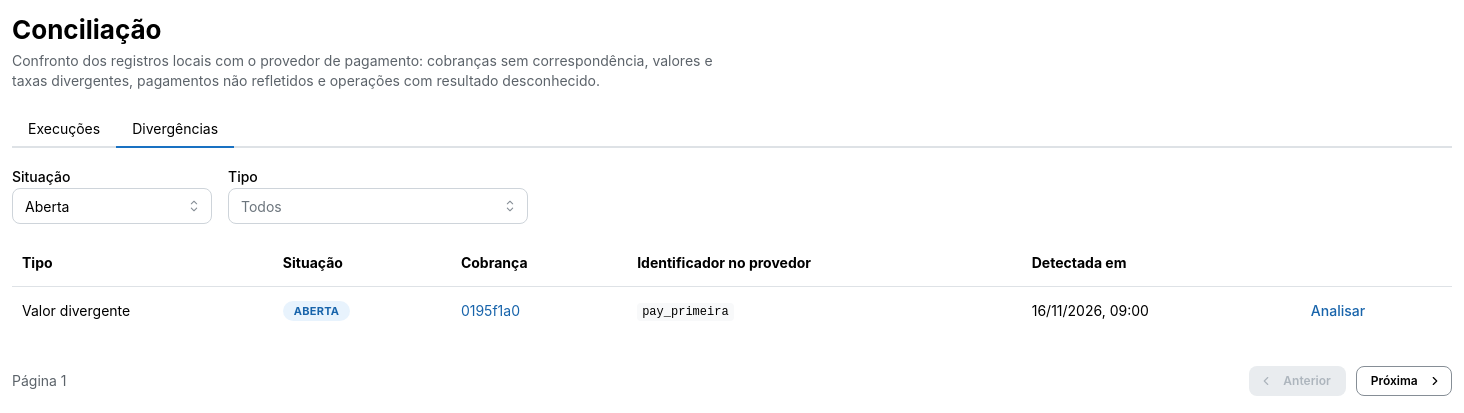
Test: listagens paginadas da conciliação › divergências seguem o next_cursor
Expected: the text "pay_primeira" is shown, [637,303,734,321]
What coordinates should you click on to do the following:
click the button "Próxima"
I would click on:
 (1404, 381)
Its box is [1356,366,1452,396].
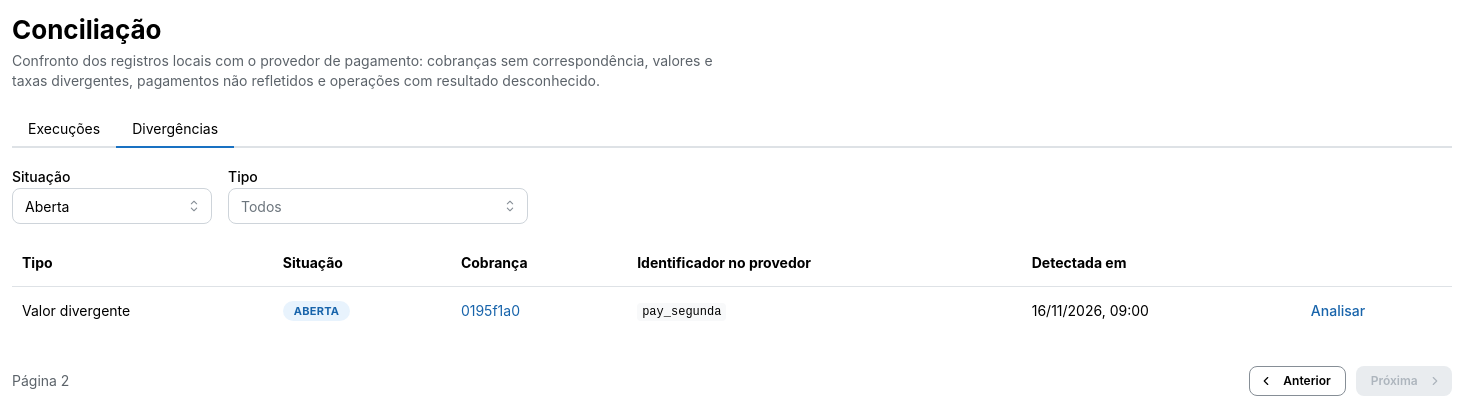
Result: the text "pay_segunda" is shown at [637,303,726,321]
